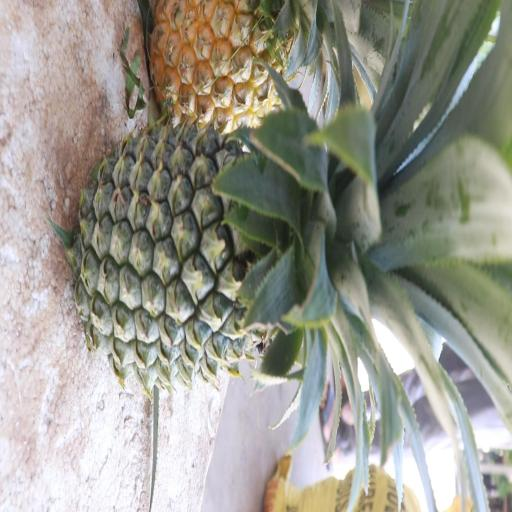Pineapple - v8 v1: (148, 0, 322, 128)
